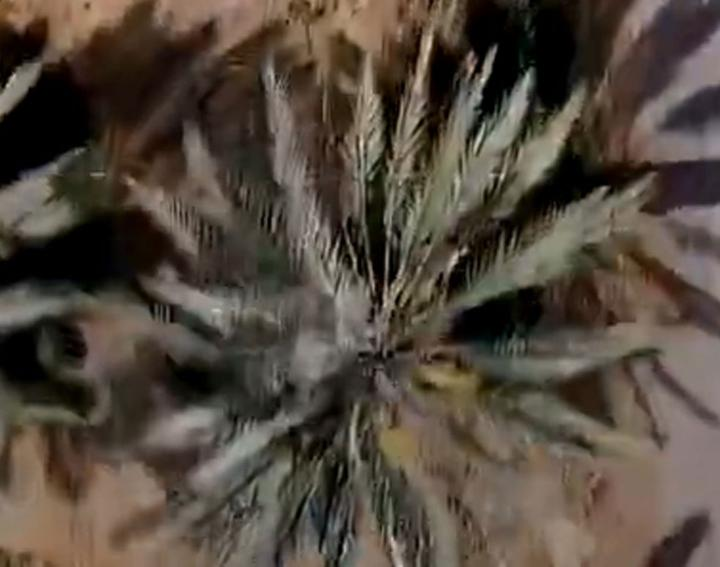Date-Palm-Crown: (232, 153, 524, 467)
